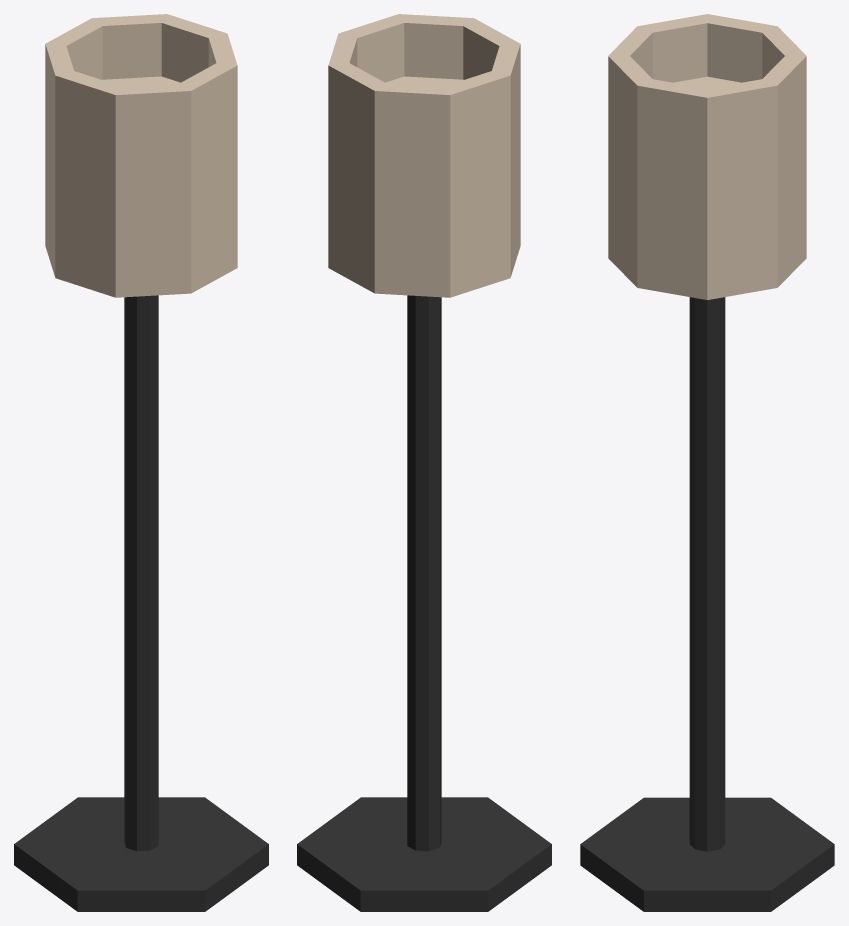
The model's file is cylinder_lamp.glb.
3 views of the same model, side by side, from view 1: azimuth 30°, elevation 25°; view 2: azimuth 150°, elevation 25°; view 3: azimuth 270°, elevation 25° (orthographic).
Visible parts, largest first — view 1: Cylinder_Lamp; view 2: Cylinder_Lamp; view 3: Cylinder_Lamp.
Part boxes in pixels (x1,y1,x2,y2): Cylinder_Lamp: [14, 14, 268, 911]; Cylinder_Lamp: [297, 14, 551, 911]; Cylinder_Lamp: [580, 14, 834, 911].
Size of the model in its own units: 0.3647 by 1.48 by 0.4211.
Materials: 1 (1 with a texture image).
